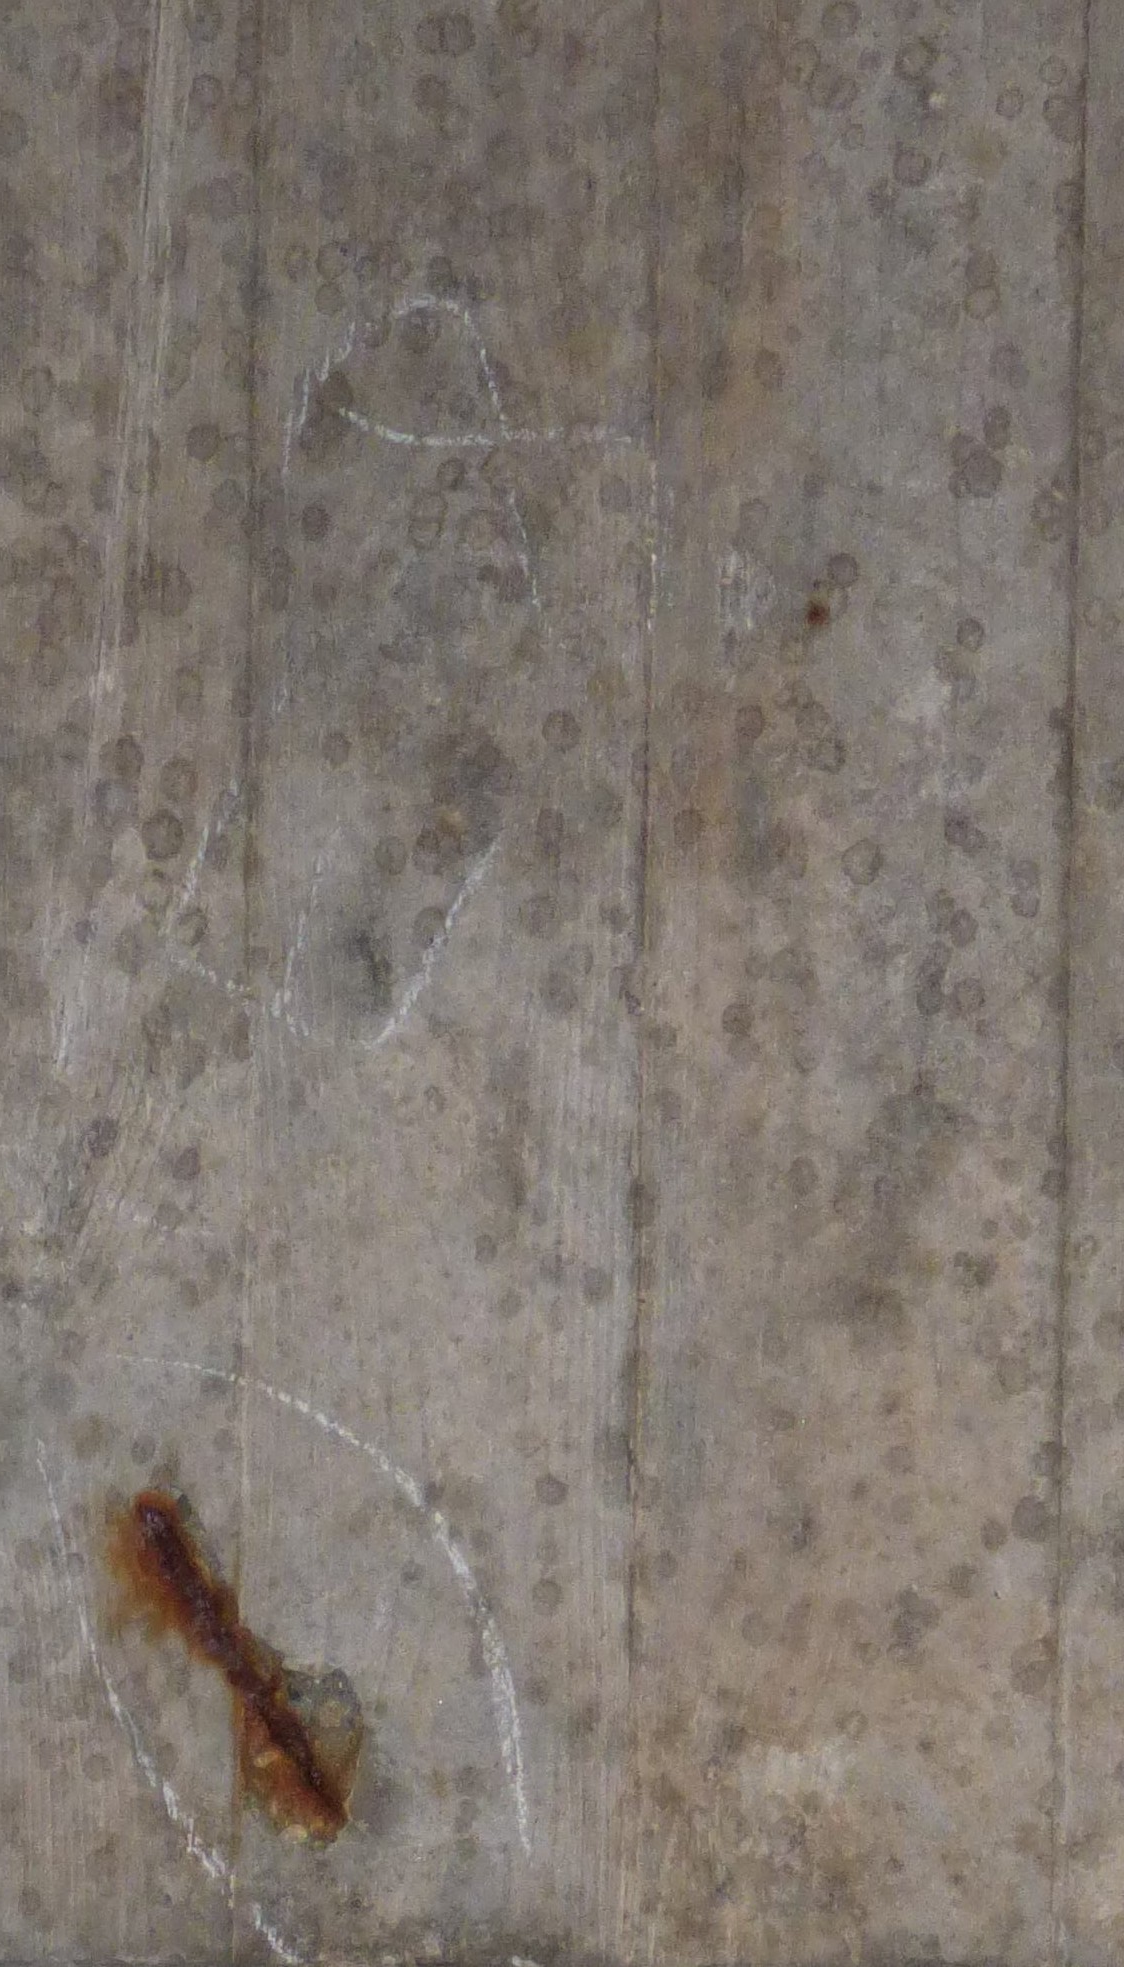Exposed reinforcement: (145, 1508, 340, 1808)
Spalling: (238, 1662, 367, 1847)
